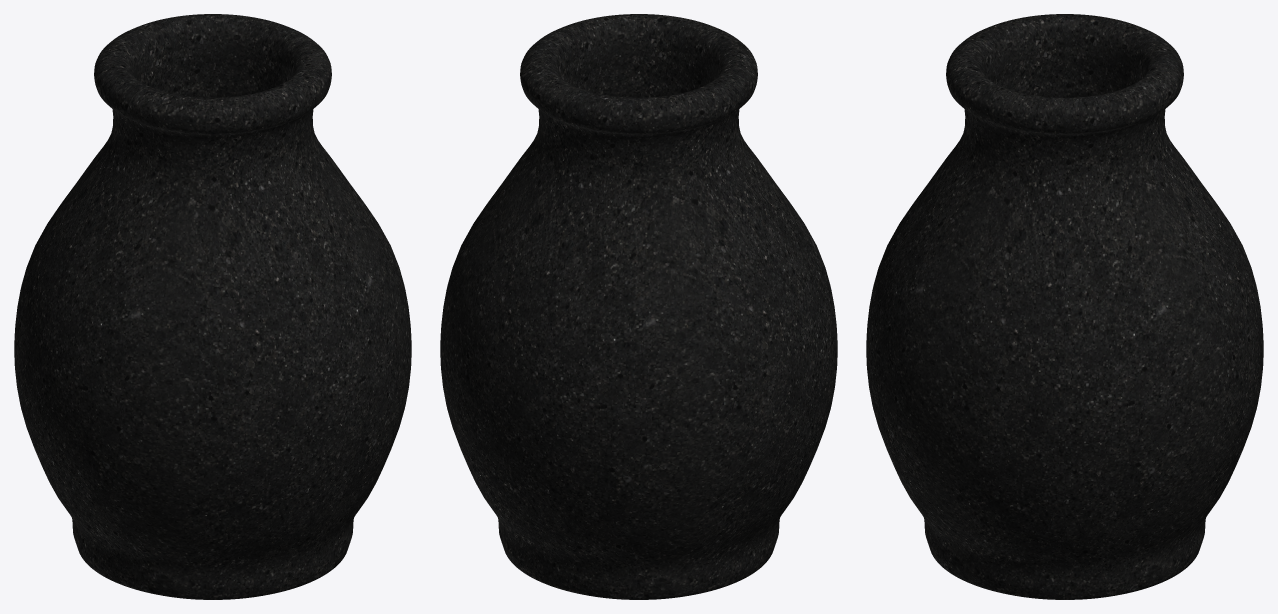
The model's file is vase-small-black.glb.
3 renders of one model, left to right at view 1: azimuth 30°, elevation 25°; view 2: azimuth 150°, elevation 25°; view 3: azimuth 270°, elevation 25°, orthographic.
Parts seen in each view (by area): view 1: vase-small-black; view 2: vase-small-black; view 3: vase-small-black.
Part boxes in pixels (x1=…): vase-small-black: x1=14, y1=14, x2=411, y2=599; vase-small-black: x1=440, y1=14, x2=837, y2=599; vase-small-black: x1=866, y1=14, x2=1263, y2=599.
Bounding box in the file's own units: 0.0167 × 0.0226 × 0.0167.
Materials: 1 (1 with a texture image).
